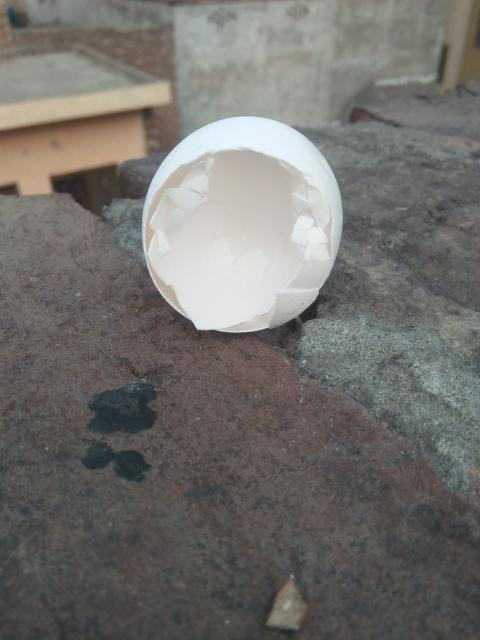Roto: (140, 114, 344, 334)
